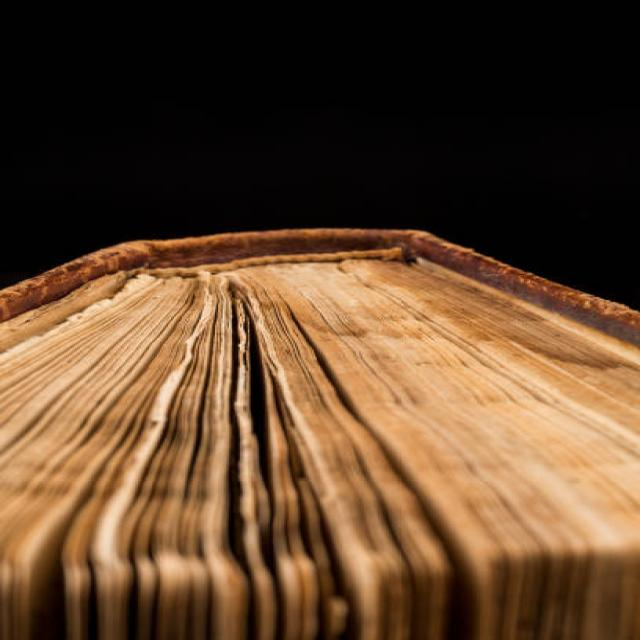electronic: (0, 227, 638, 638)
